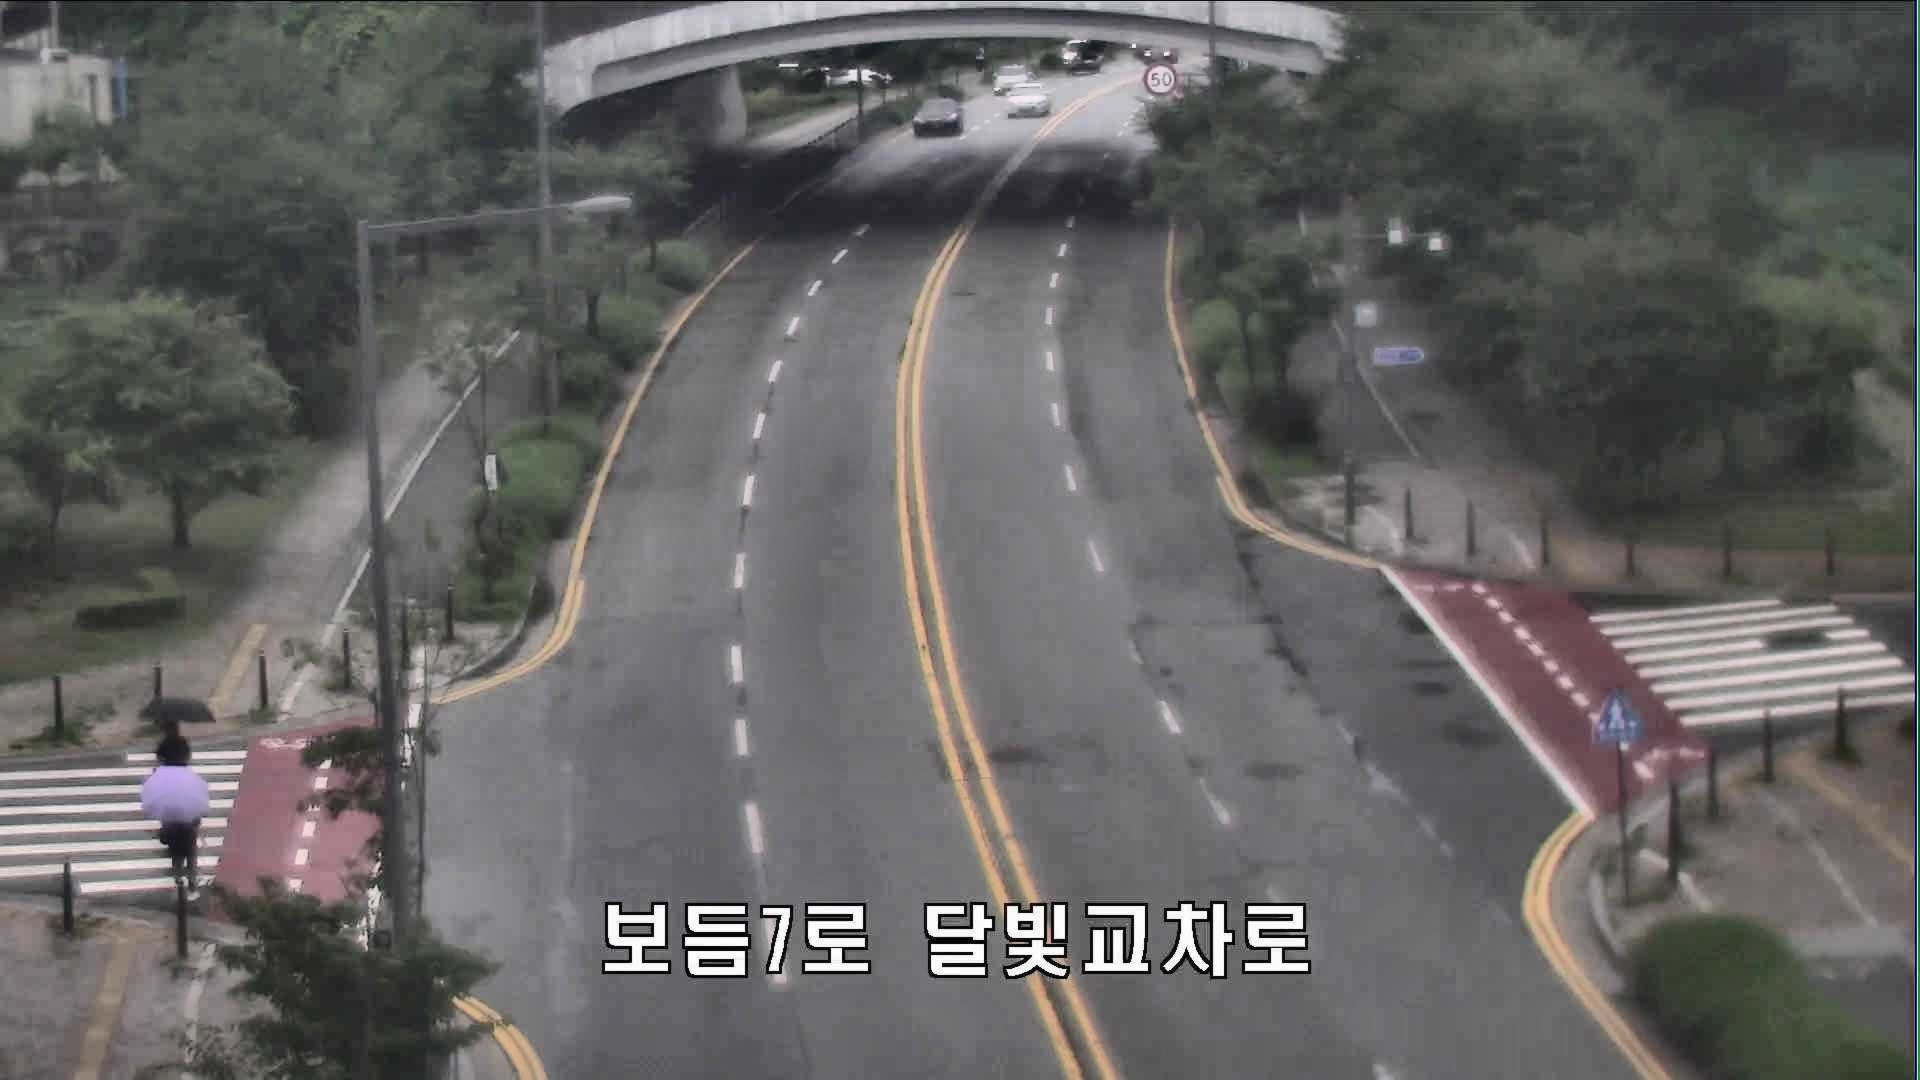um_crosswalk: (142, 684, 216, 820), (146, 771, 202, 909)
